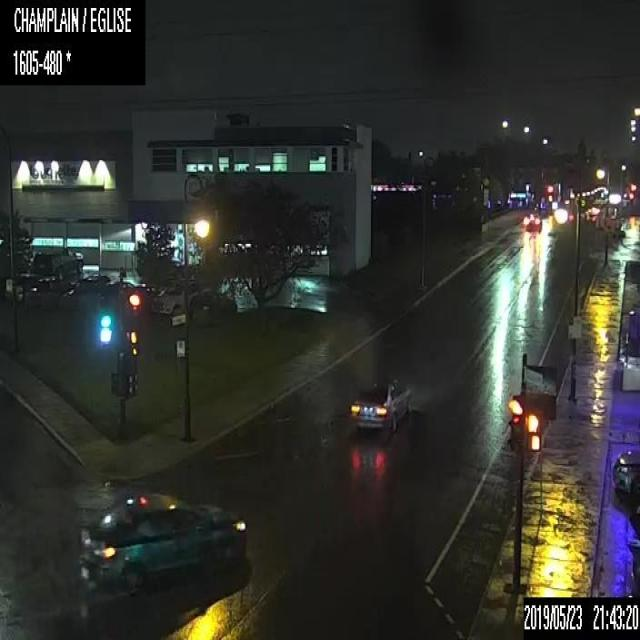construction: (601, 215, 612, 231)
vehicle: (77, 491, 245, 586), (346, 375, 413, 432), (61, 272, 110, 306), (154, 279, 202, 313), (32, 248, 83, 278), (612, 449, 639, 501), (190, 290, 237, 317), (94, 279, 132, 307), (120, 284, 158, 308), (521, 210, 541, 230), (560, 207, 573, 222), (586, 212, 598, 226)
